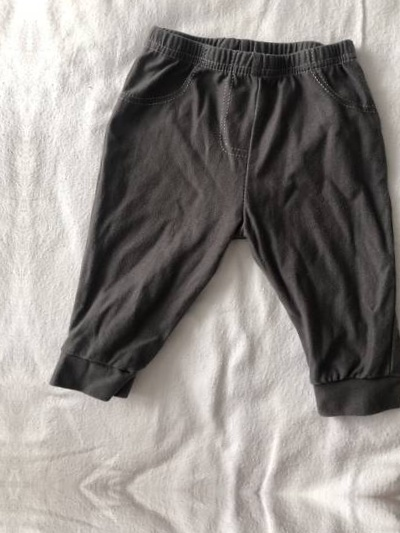Pants: (35, 10, 400, 422), (0, 0, 12, 408)
